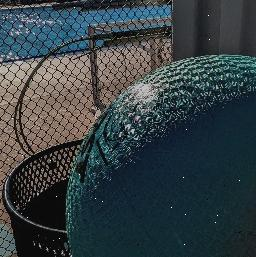algae: (65, 54, 256, 257)
